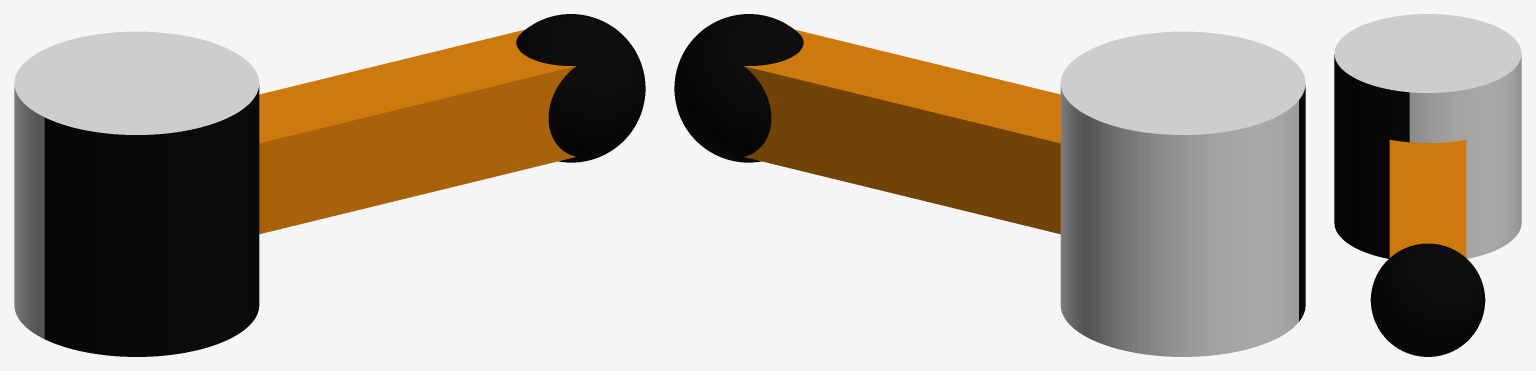
File: antropomorfic_arm_link_3.dae
The picture shows the model from 3 angles, left to right: view 1: azimuth 30°, elevation 25°; view 2: azimuth 150°, elevation 25°; view 3: azimuth 270°, elevation 25°; orthographic projection. The views are drawn at different scales.
Parts seen in each view (by area): view 1: Sphere; view 2: Sphere; view 3: Sphere.
Boxes of the visible parts, <box> form: Sphere: <box>14,14,645,356</box>; Sphere: <box>674,14,1305,356</box>; Sphere: <box>1334,14,1521,356</box>.
Bounding box in the file's own units: 1.39 × 0.4882 × 0.4882.
